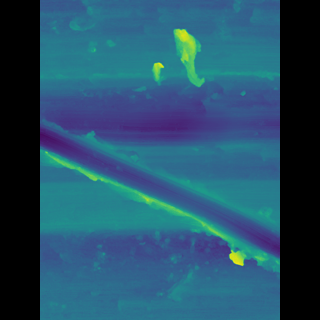Loch: (68, 120, 251, 261), (167, 30, 193, 86)
